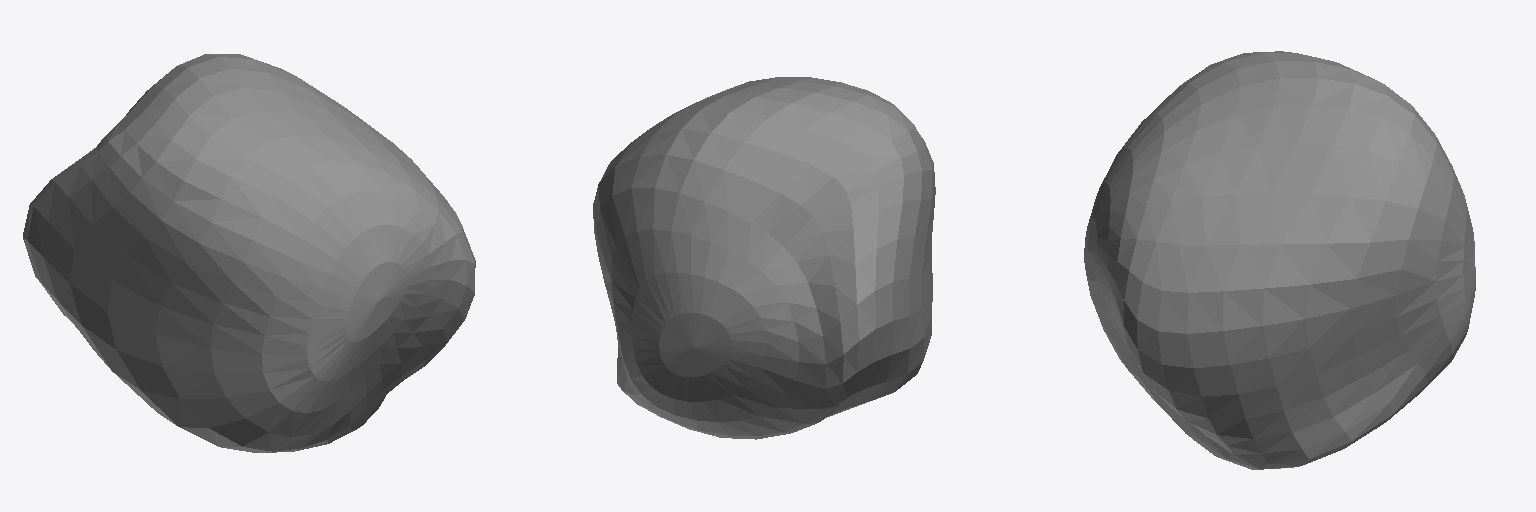
The model's file is meteor_01.obj.
3 renders of one model, left to right at view 1: azimuth 30°, elevation 25°; view 2: azimuth 150°, elevation 25°; view 3: azimuth 270°, elevation 25°, orthographic.
Visible parts, largest first — view 1: Meteor_01_001; view 2: Meteor_01_001; view 3: Meteor_01_001.
Part boxes in pixels (left/top/right/bottom): Meteor_01_001: left=23, top=54, right=475, bottom=452; Meteor_01_001: left=593, top=77, right=935, bottom=439; Meteor_01_001: left=1084, top=51, right=1475, bottom=469.
Size of the model in its own units: 200 by 198 by 200.